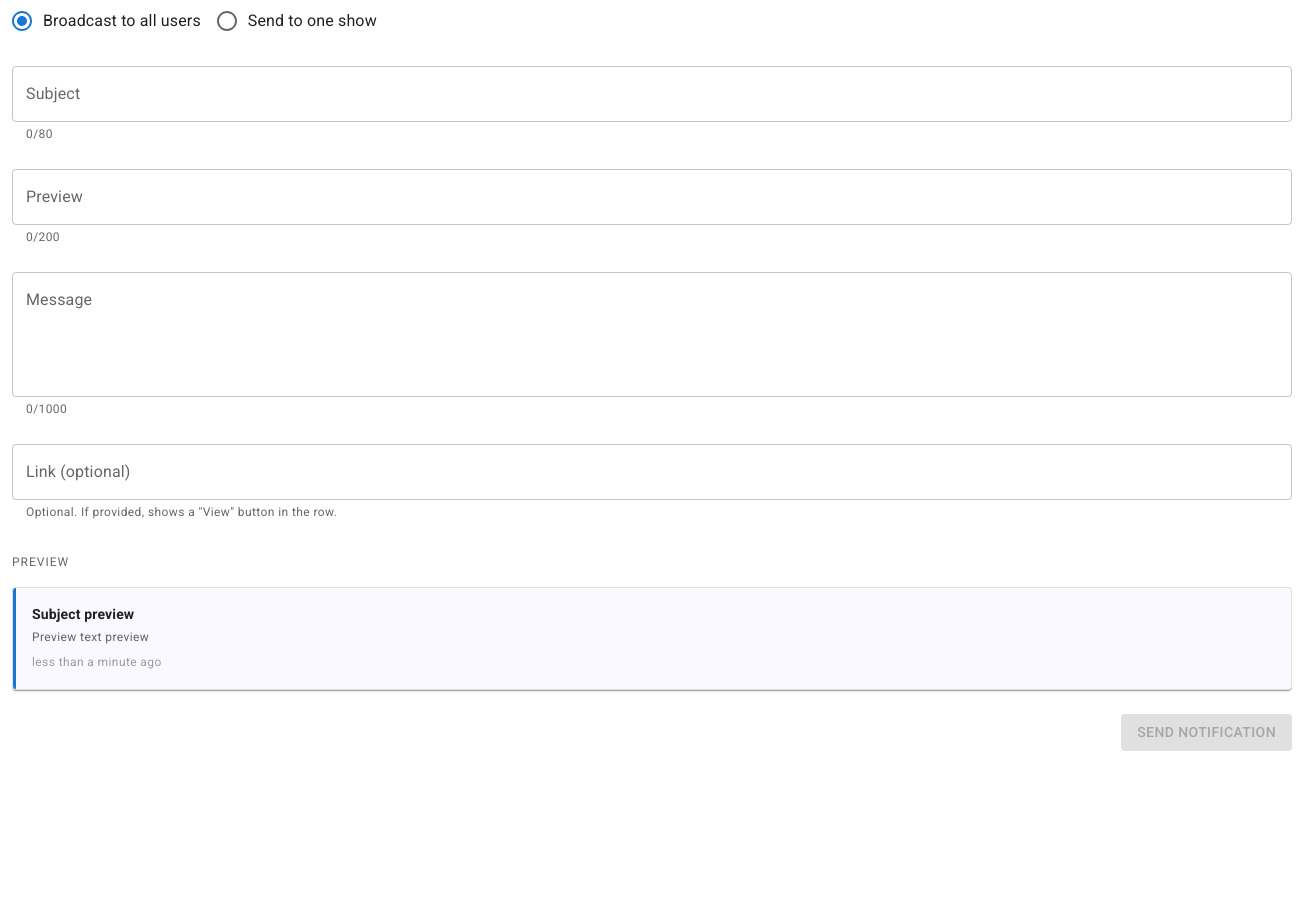
SendForm validation › disables the Send button when link is not a valid URL
The image size is (1304, 900).
Type "Subject" into the field labelled "Subject".
click(652, 94); type("Subject")  # box [12,66,1292,122]
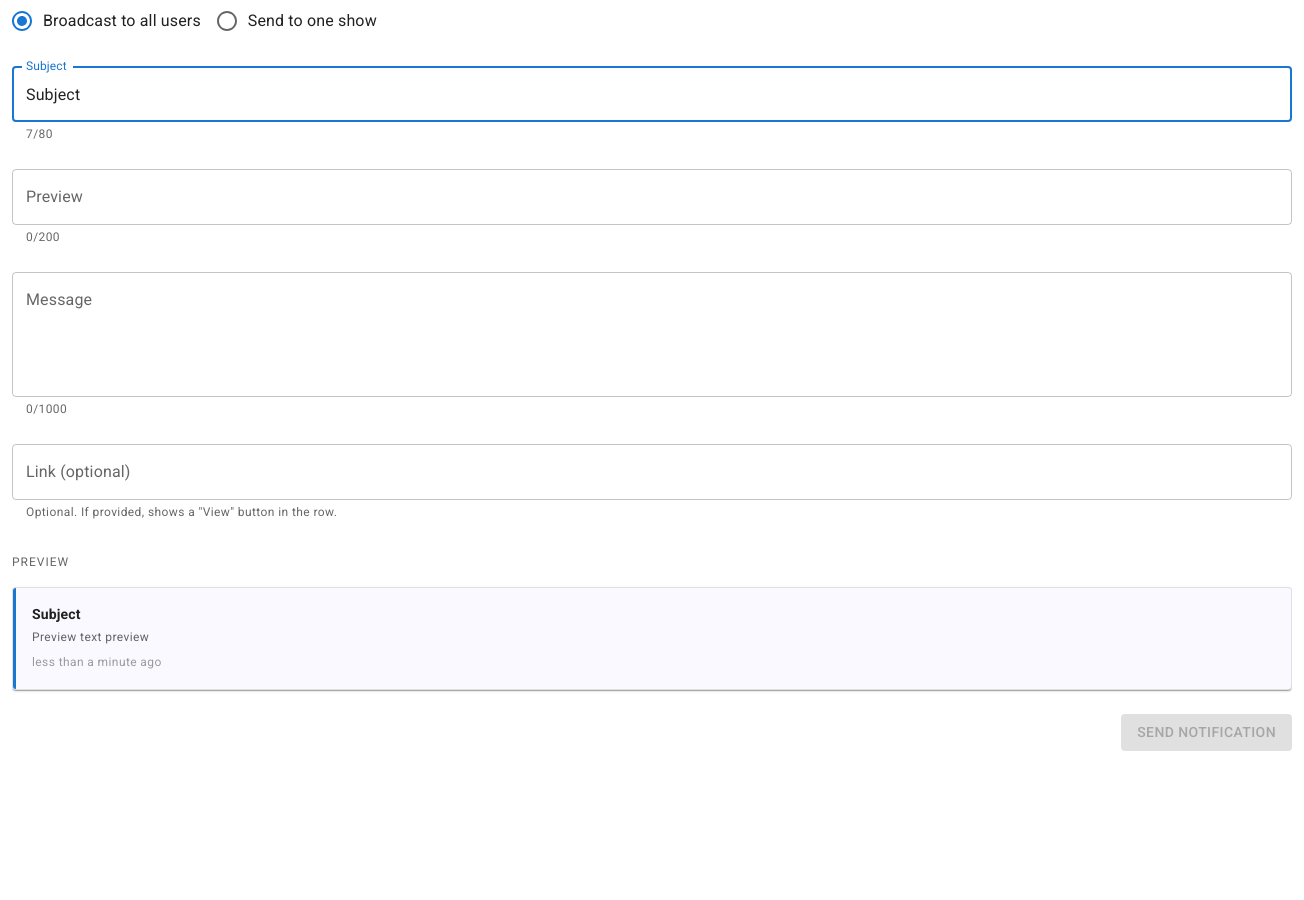
Type "Preview" into the field labelled "Preview".
click(652, 197); type("Preview")  # box [12,169,1292,225]
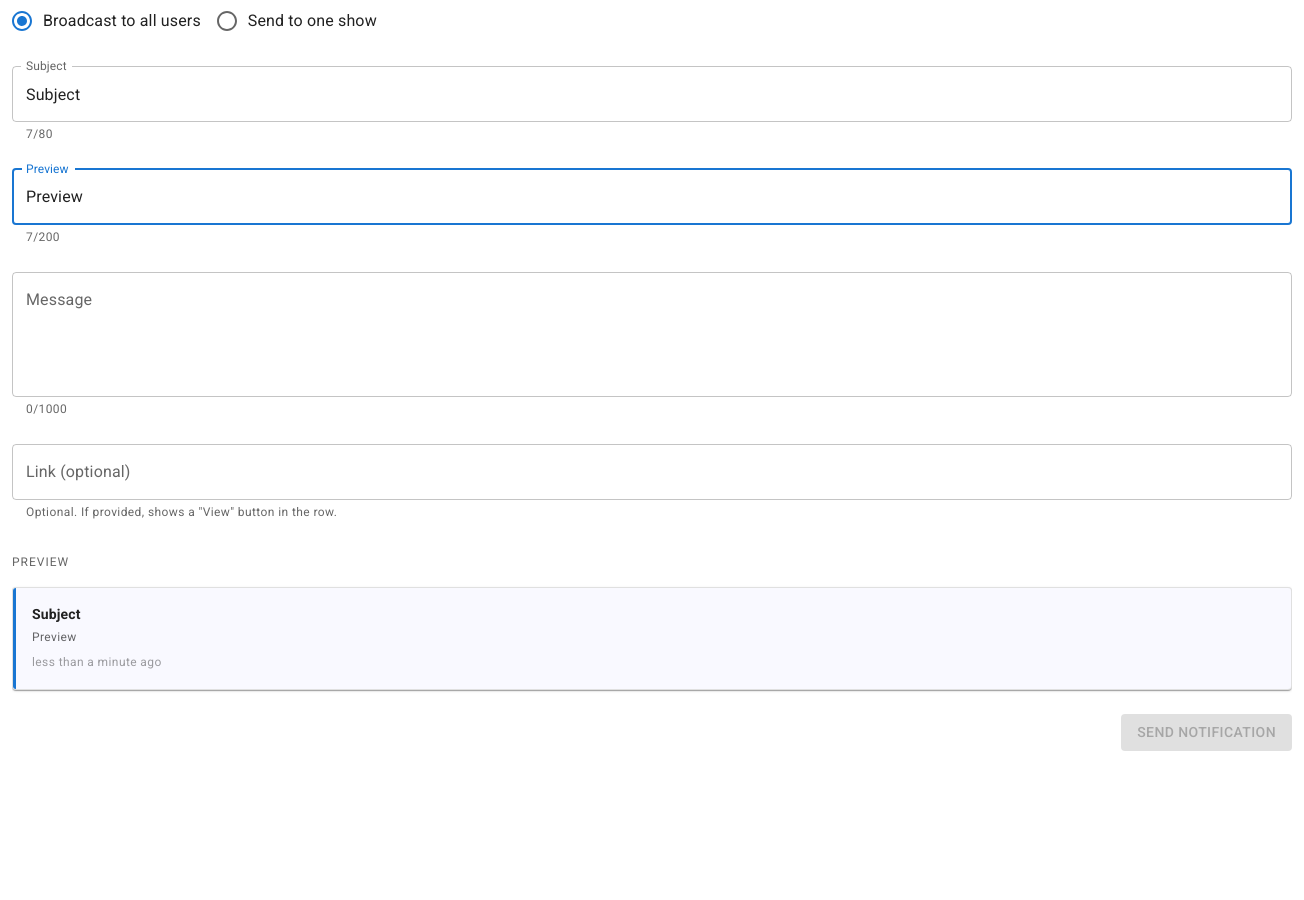
Type "Message" into the text box labelled "Message".
click(652, 334); type("Message")  # box [26,288,1278,380]
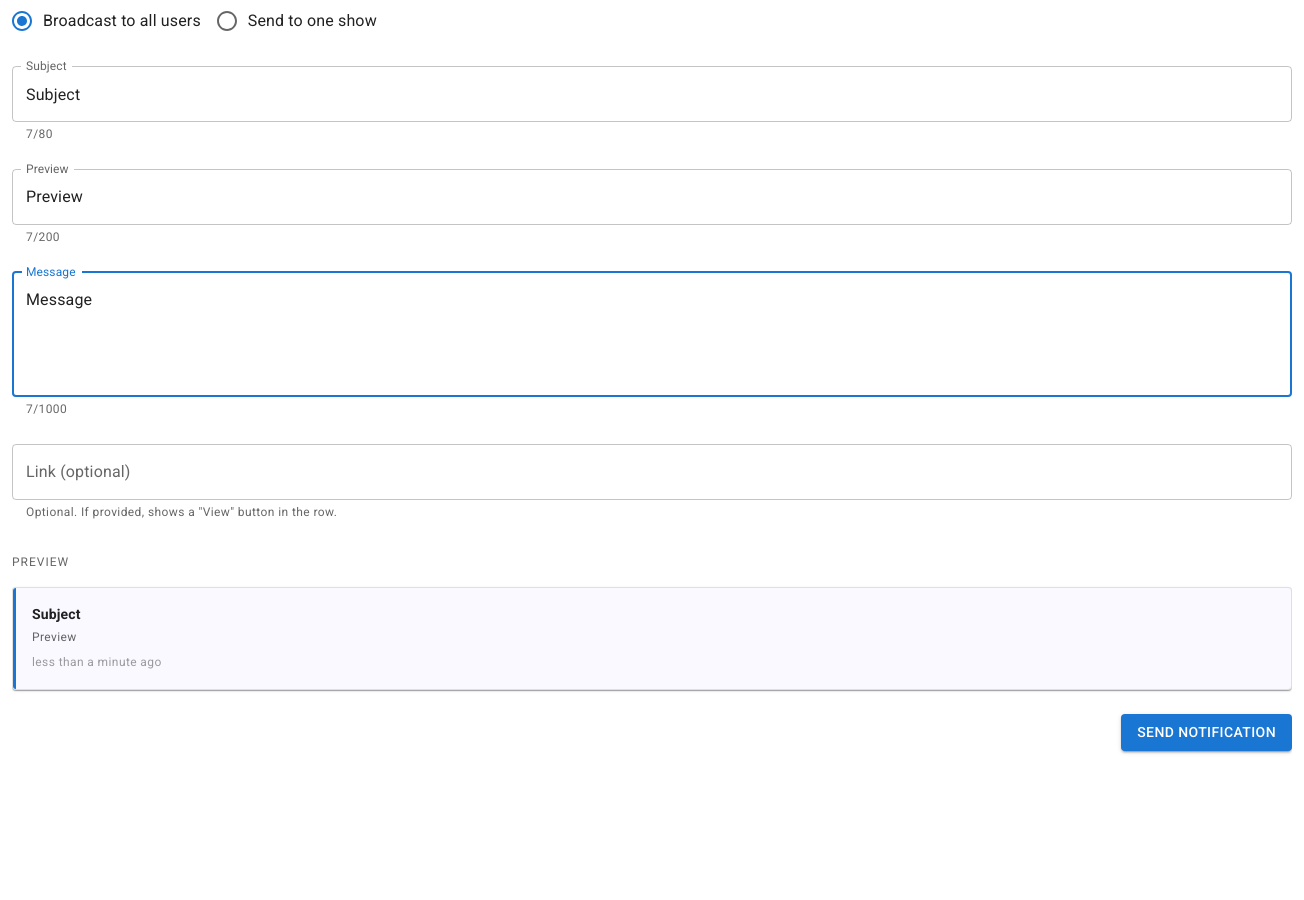
Type "not-a-url" into the field labelled "Link (optional)".
click(652, 472); type("not-a-url")  # box [12,444,1292,500]
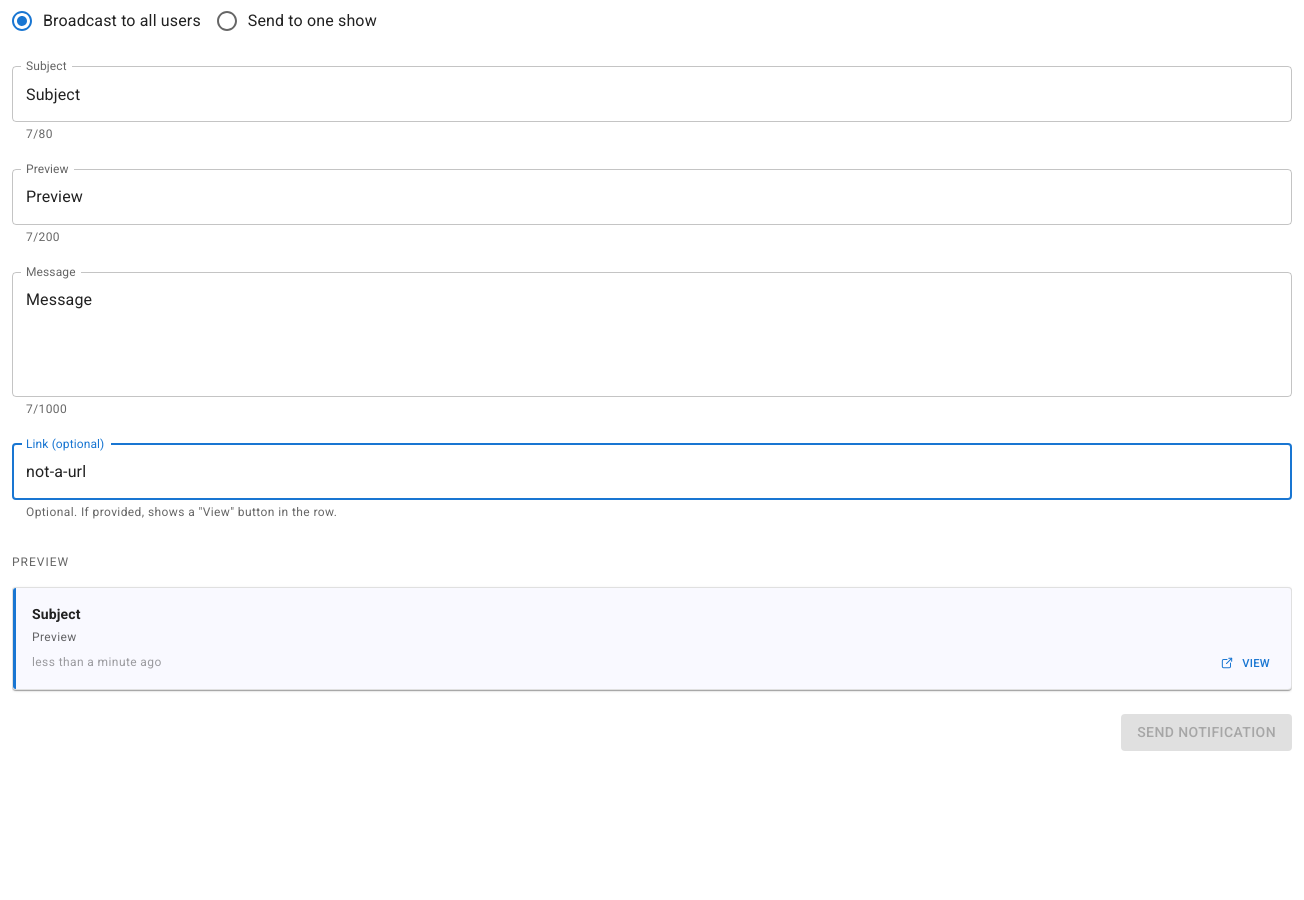
Press Tab
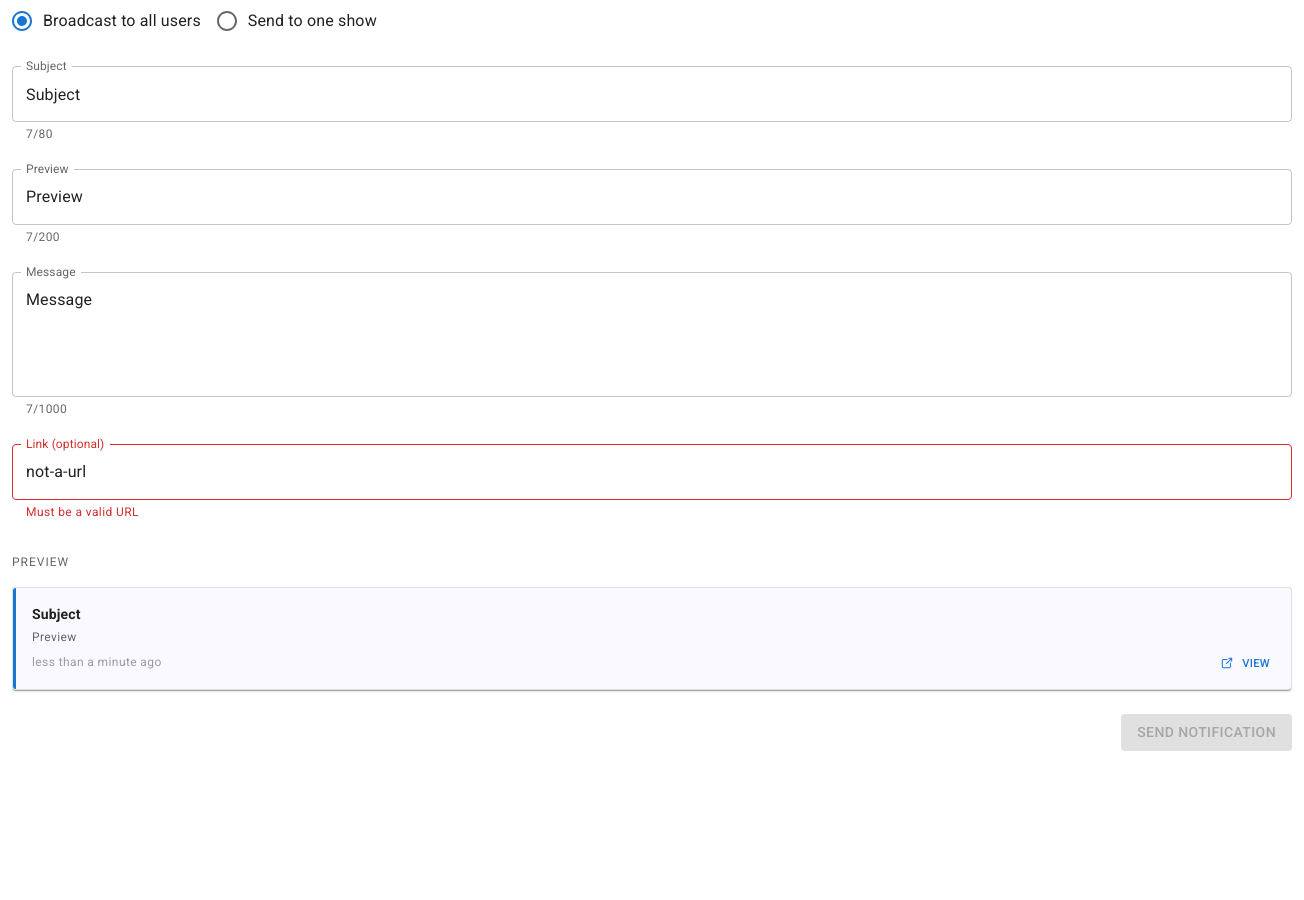
Check: the button "Send notification" is disabled, box [1121,714,1292,751]
Check: the text "Must be a valid URL" is shown, box [26,505,139,519]
